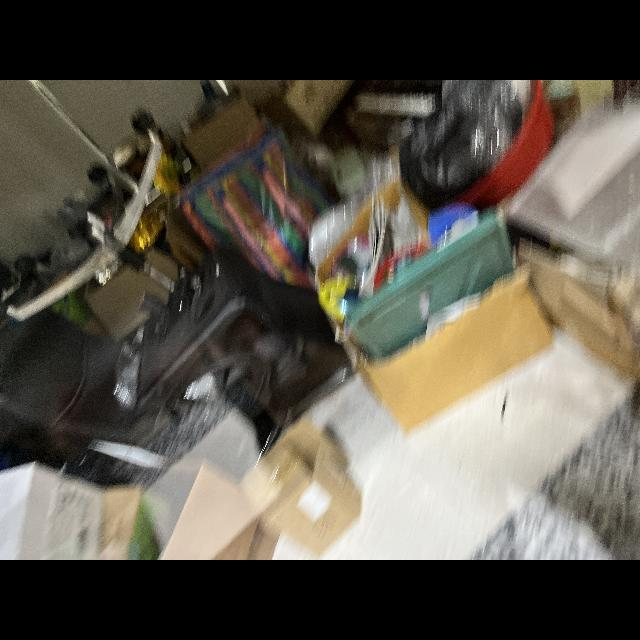cardboard_box: (325, 272, 555, 440), (242, 424, 366, 554)
